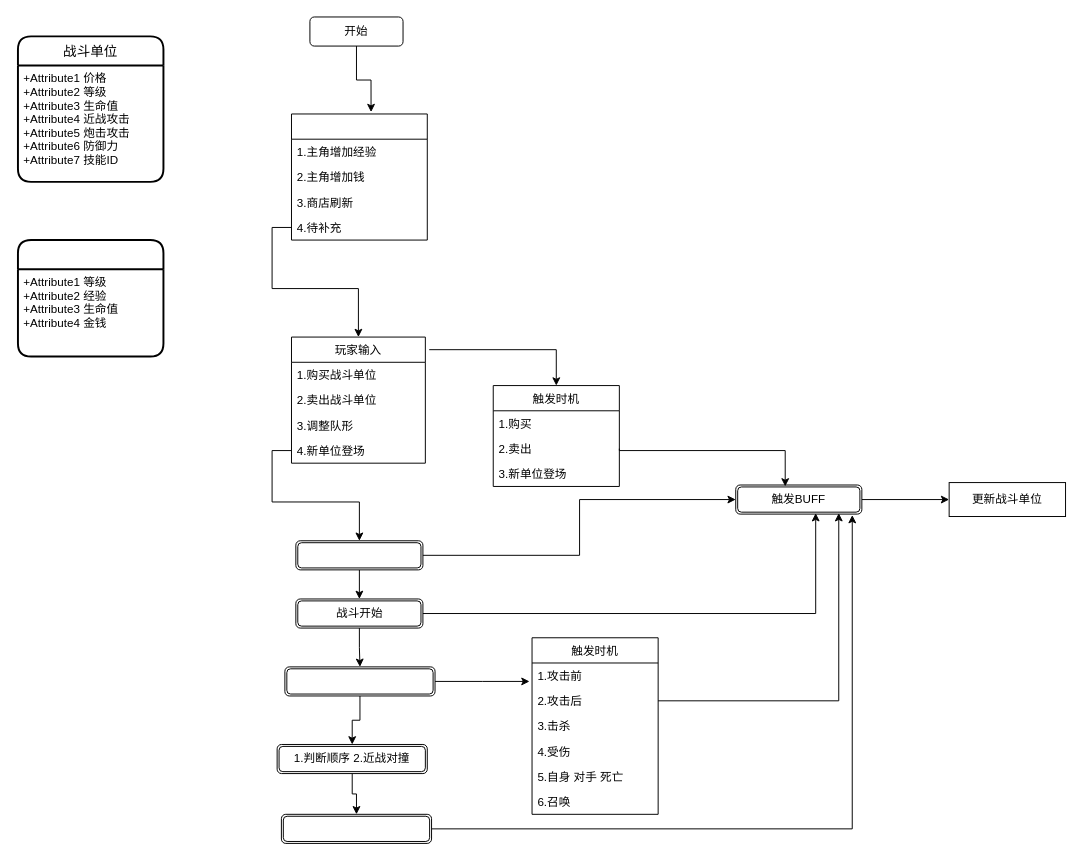
Image size: 1083x860. Some labels were removed from this diagram. The shapes that lost their labels are listed below. From the top down, each one's box as (x1, y1, x2, y2) in pixels, then its label:
(291, 113, 427, 240): 系统更新
(16, 239, 164, 357): 主角
(295, 540, 423, 570): 准备结束
(284, 666, 435, 696): 1.判断顺序 2.远程炮击
(280, 813, 432, 843): 战斗结束
